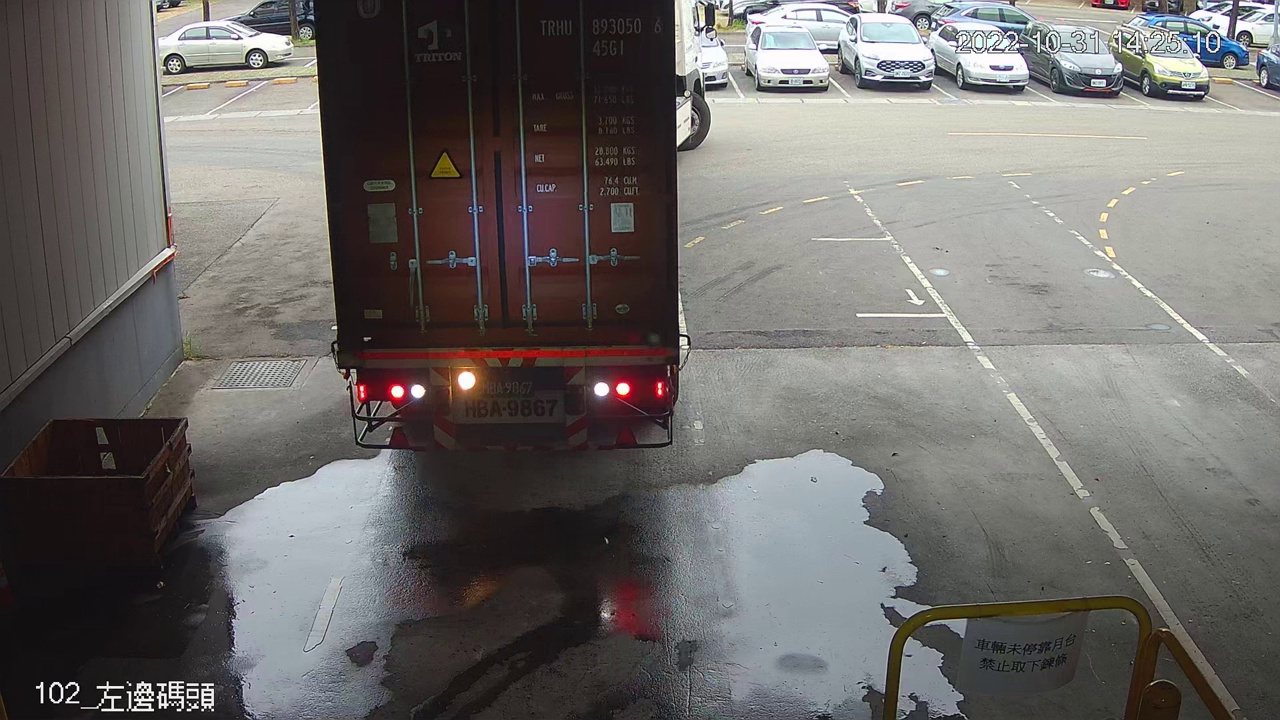container: (534, 10, 668, 62)
